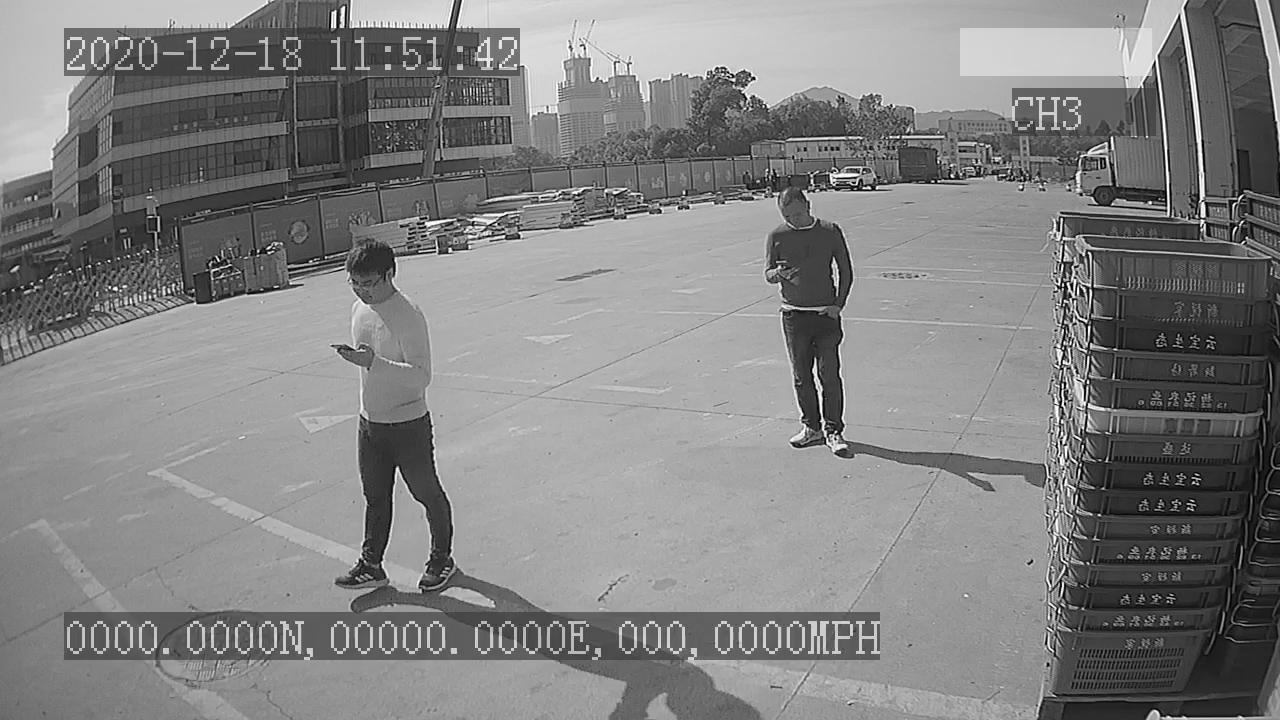person: (320, 236, 463, 601), (756, 183, 863, 460)
